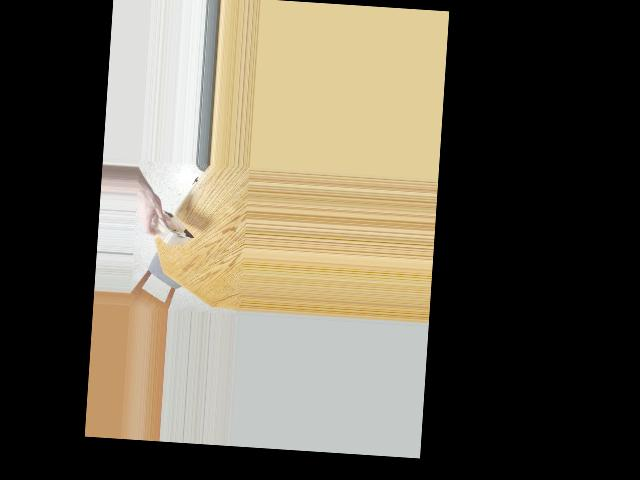cheese: (147, 203, 190, 256)
